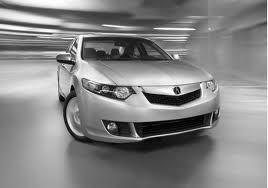car: (57, 35, 222, 144)
